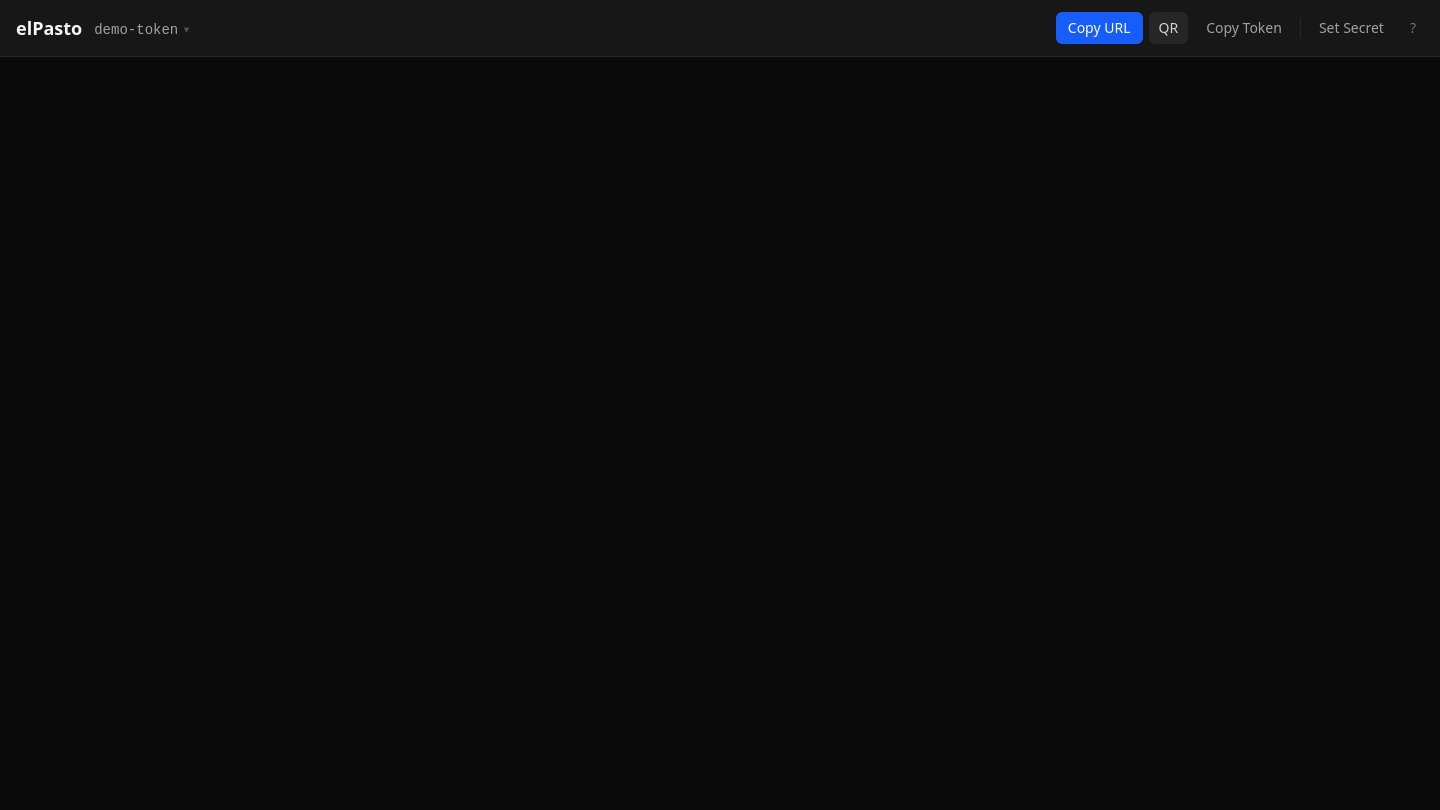
Test: SessionHeader › clicking outside closes the session dropdown
The width and height of the screenshot is (1440, 810).
Click the button with aria-label "Session menu".
click(142, 30)  # box [94,20,191,40]
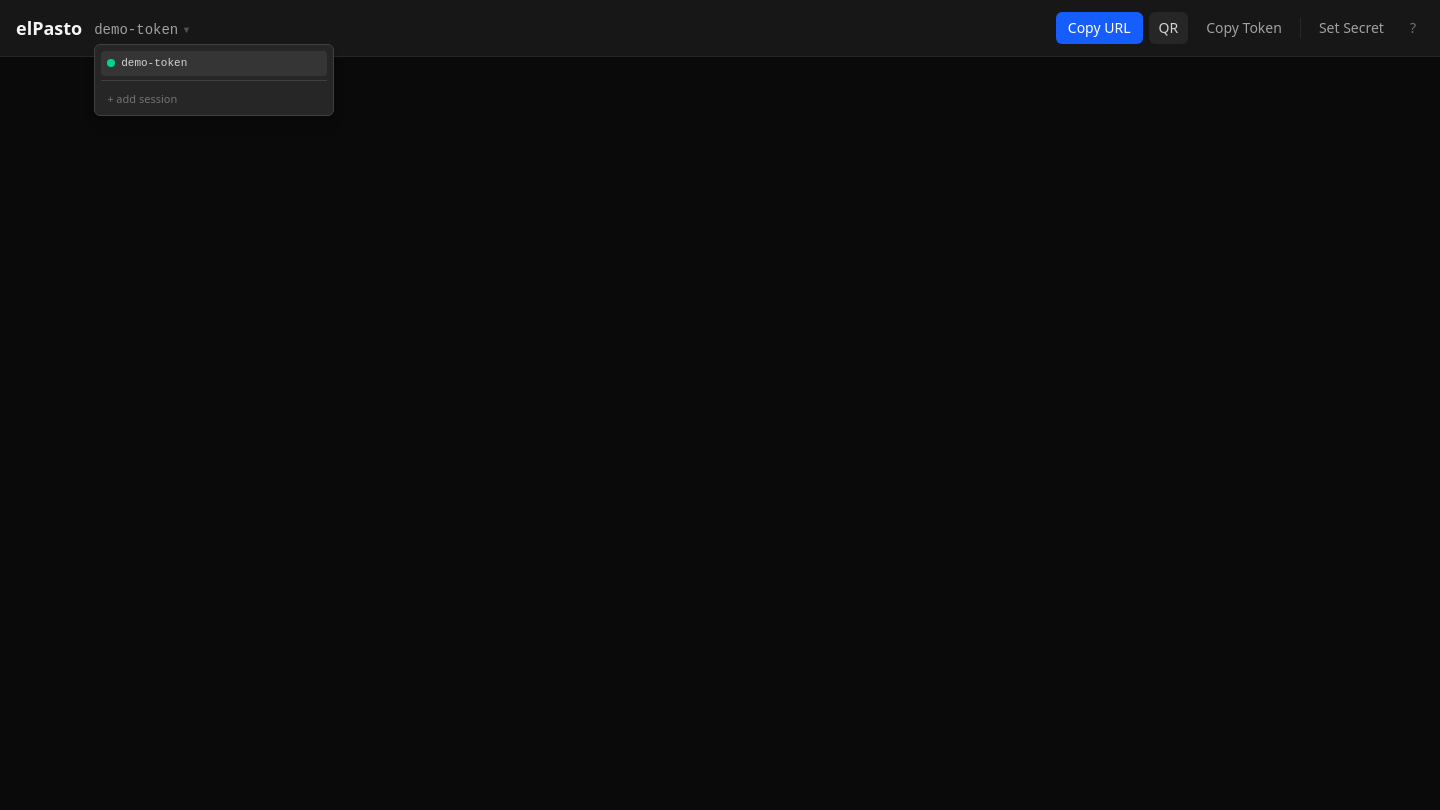
Expected: the menu is shown, [94,44,334,116]
Press the mouse on the element that starts with "elPasto" at (720, 405), box [0,0,1439,809]
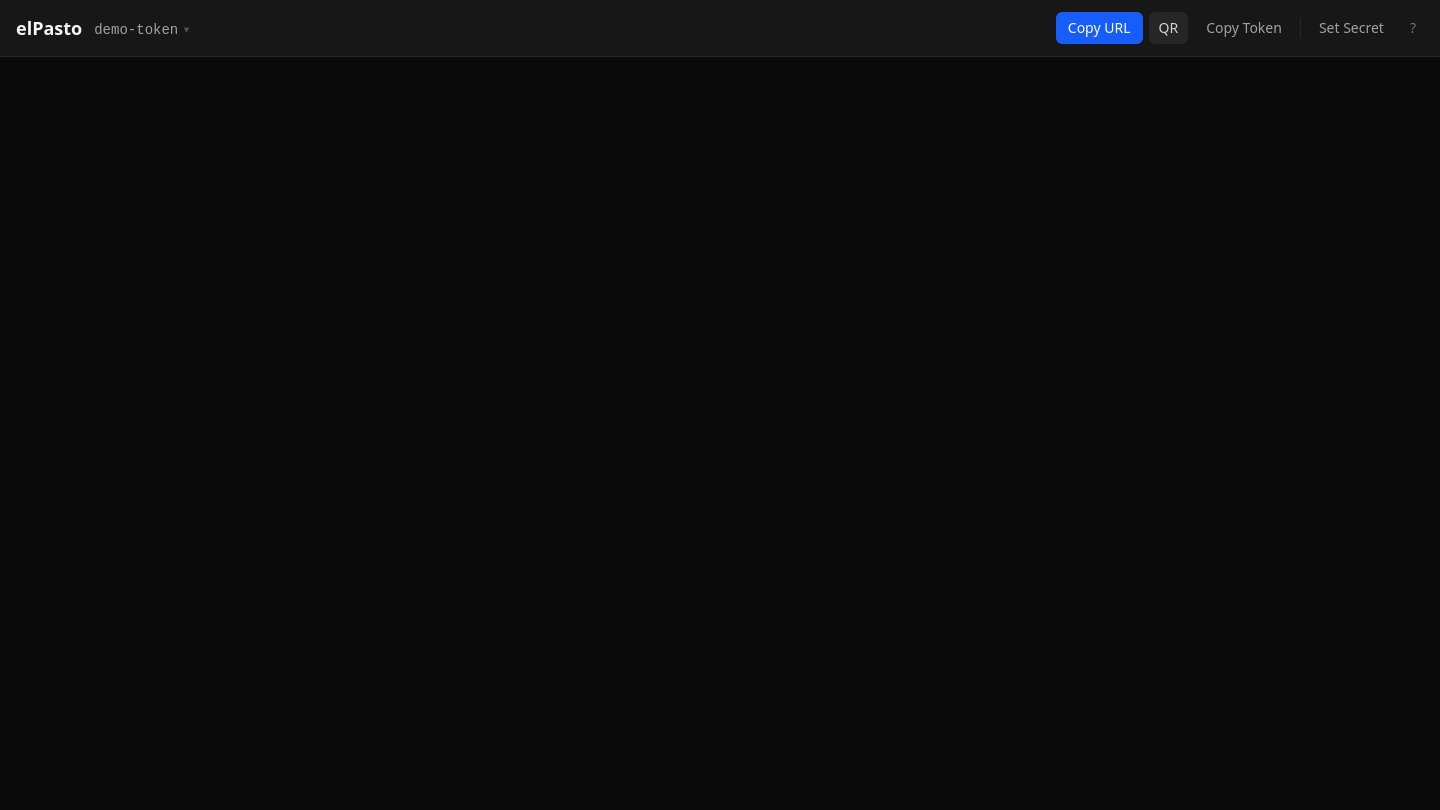
Expected: the menu is gone
